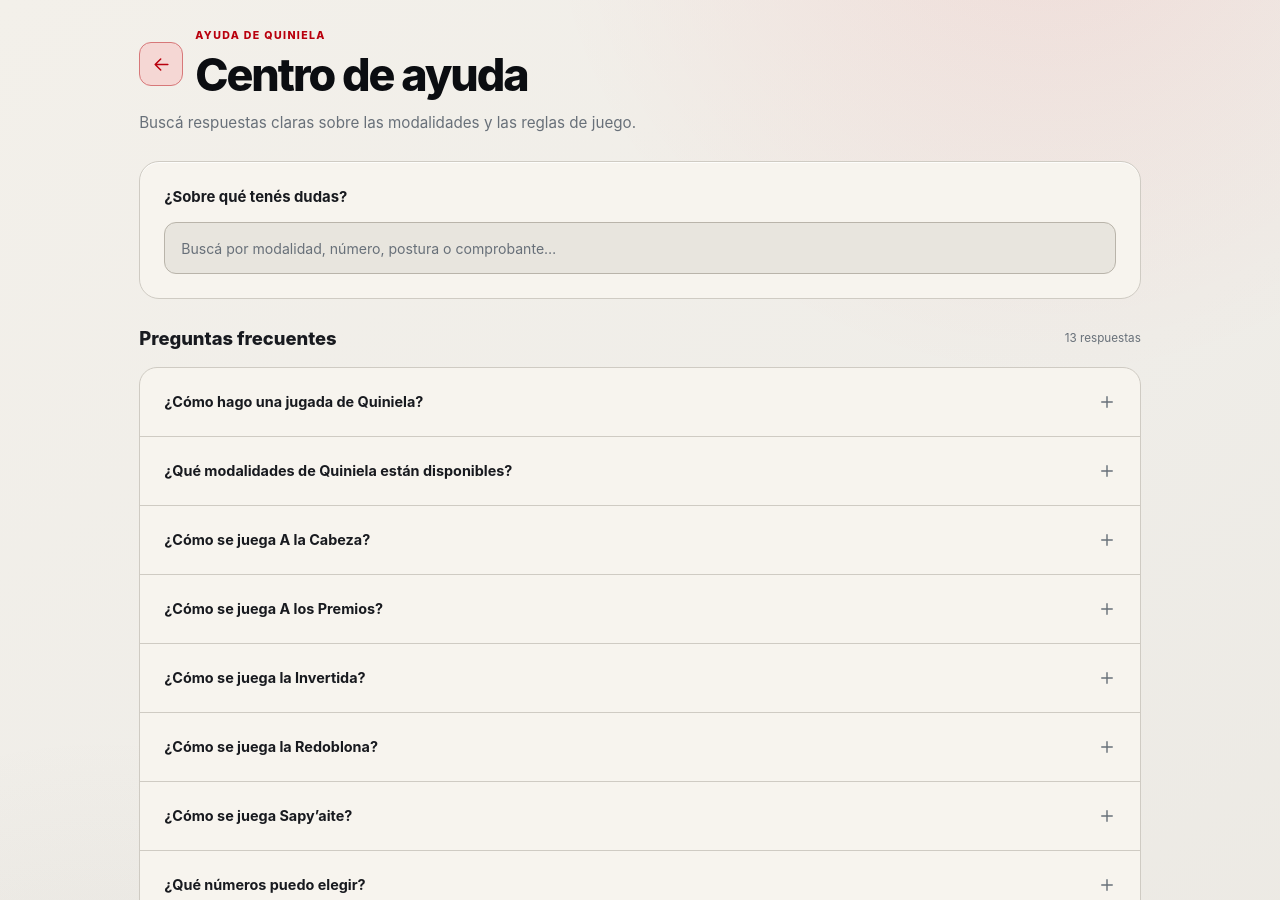
it: HelpClient › clears a search and restores every question
In the search field: (640, 248) [164,222,1116,274], type "código seguridad"
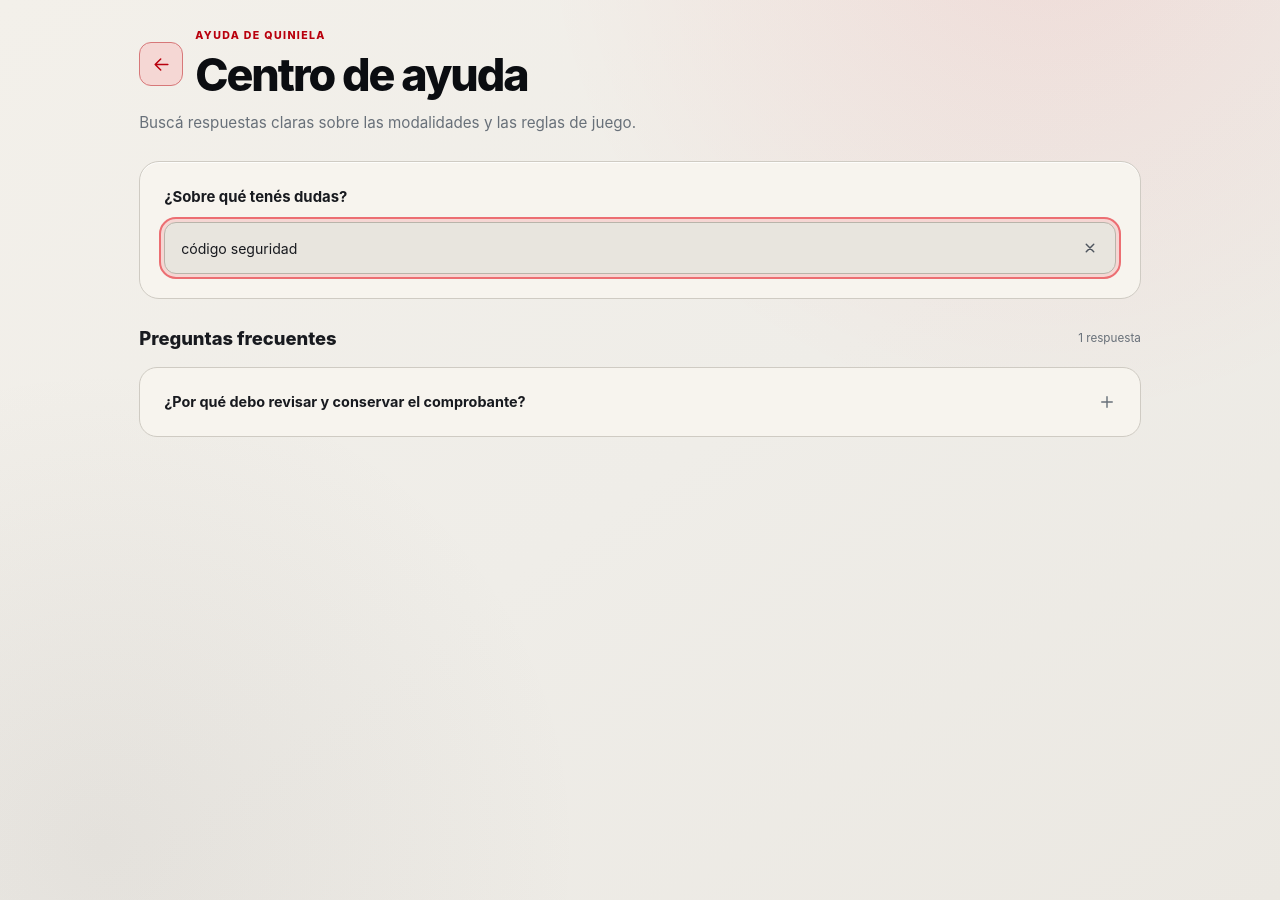
Click the button named "Limpiar búsqueda": (1090, 248) [1068,226,1112,270]
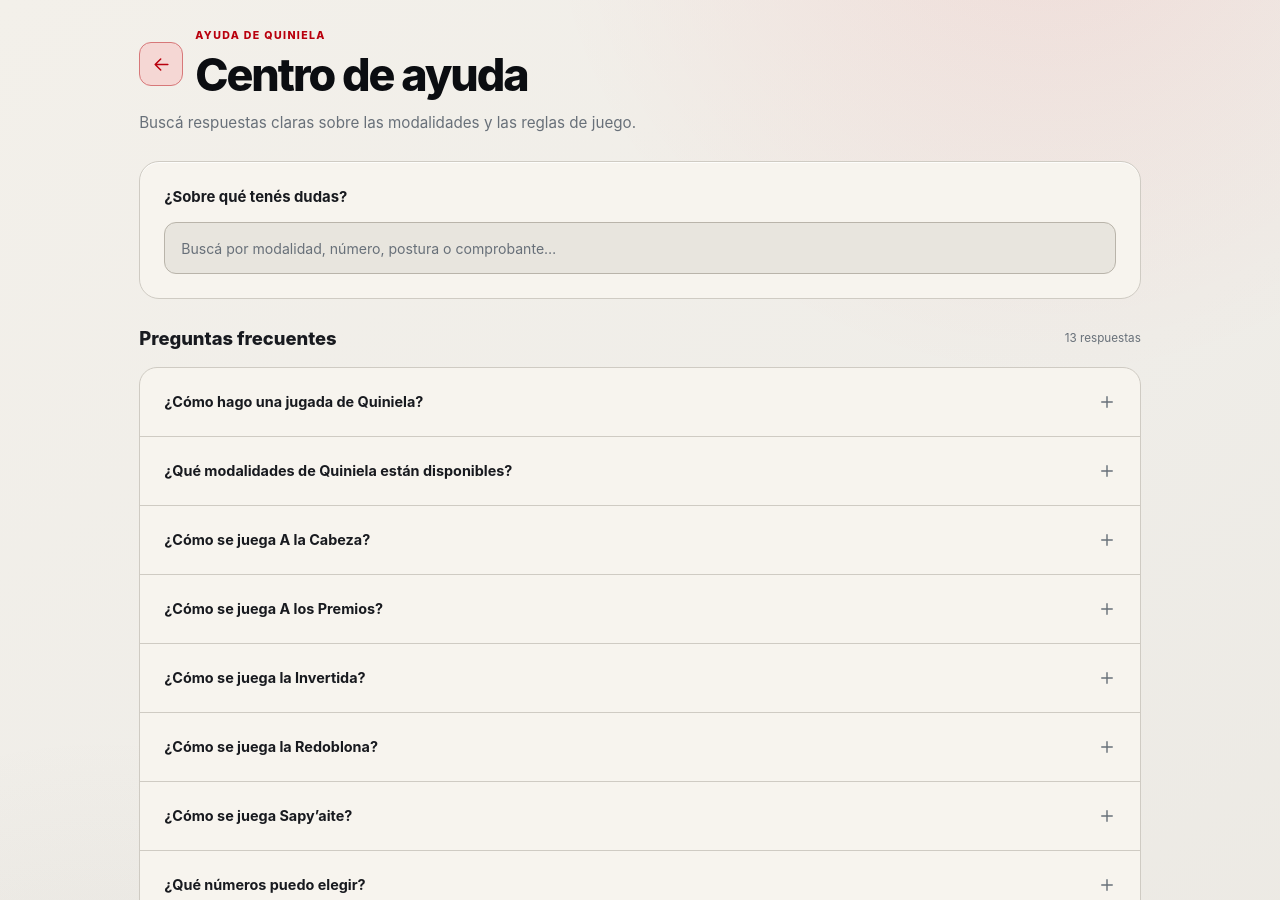
Expected: the search field is empty, [164,222,1116,274]
Expected: the message reads "13 respuestas", [1065,330,1141,348]
